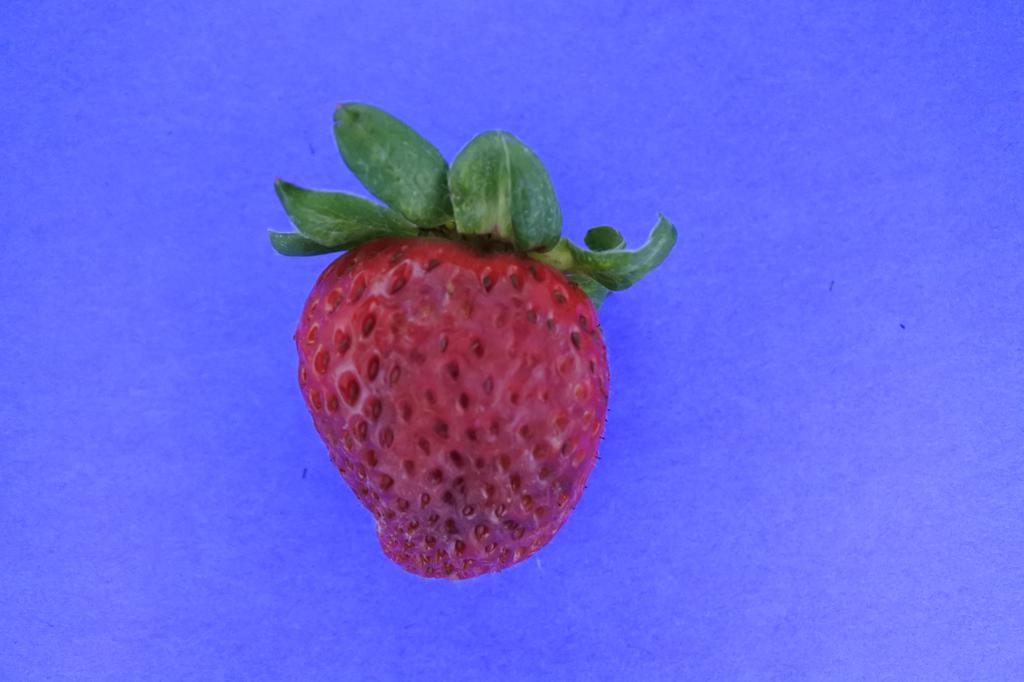red strawberry: (267, 99, 679, 580)
